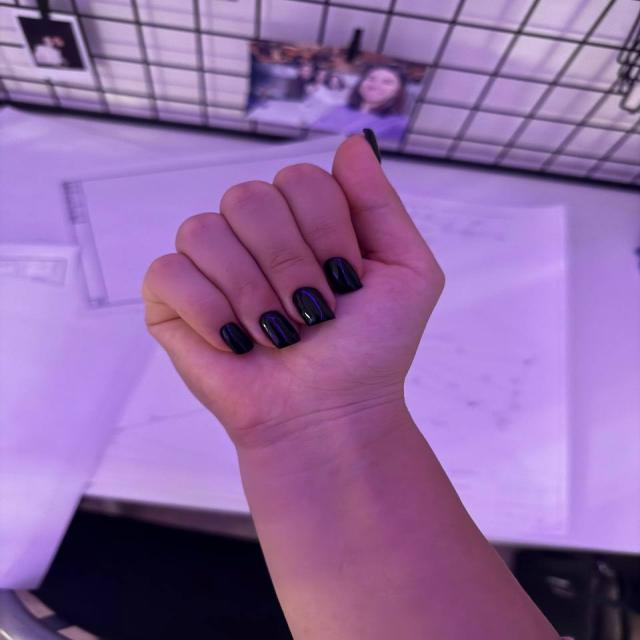a: (127, 117, 491, 393)
